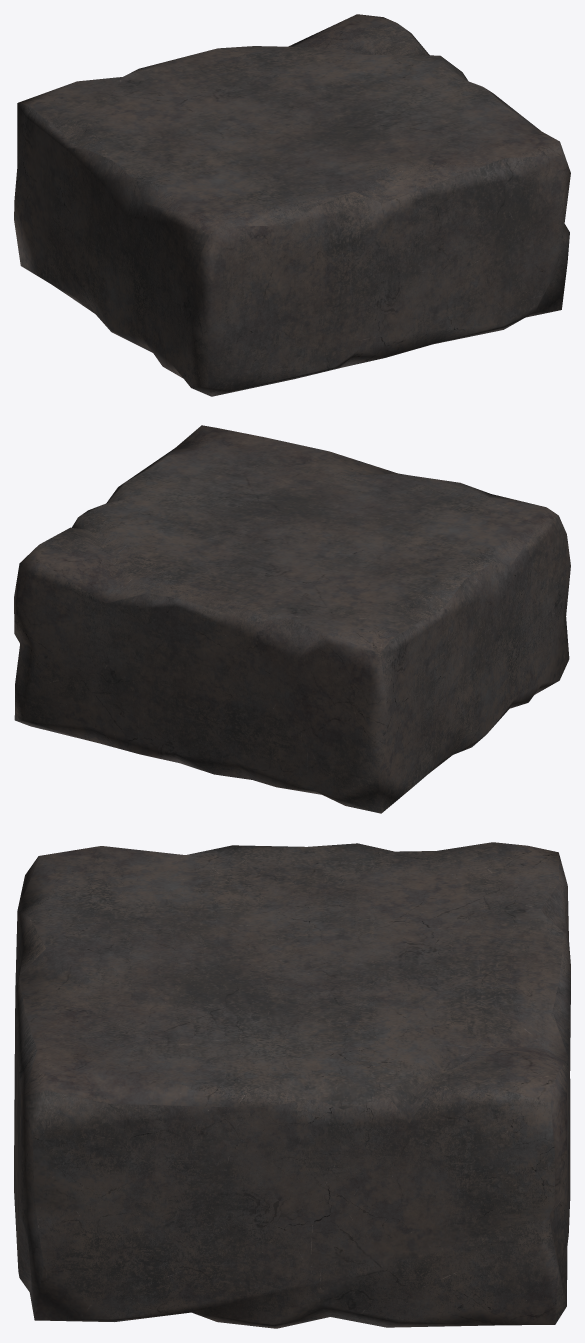
File: SM_Block2.fbx
3 renders of one model, top to bottom at view 1: azimuth 30°, elevation 25°; view 2: azimuth 150°, elevation 25°; view 3: azimuth 270°, elevation 25°, orthographic. The views are drawn at different scales.
Visible parts, largest first — view 1: SM_Block2_LOD0; view 2: SM_Block2_LOD0; view 3: SM_Block2_LOD0.
Part boxes in pixels (<box>): SM_Block2_LOD0: <box>14,14,570,396</box>; SM_Block2_LOD0: <box>14,425,570,813</box>; SM_Block2_LOD0: <box>14,842,570,1328</box>.
Size of the model in its own units: 112 by 102 by 48.09.
1 material, 1 textured.
